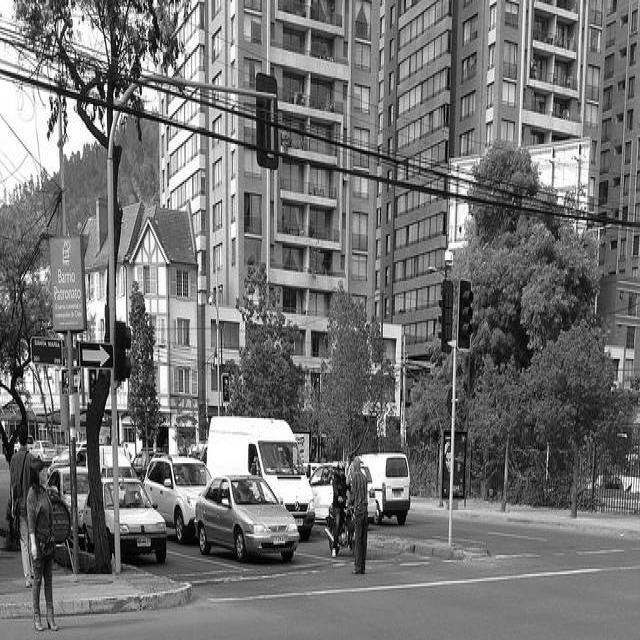vehicle: (209, 410, 313, 528), (196, 477, 299, 568), (81, 480, 167, 572), (144, 451, 210, 535), (307, 465, 377, 525), (361, 453, 411, 525), (45, 465, 89, 539), (324, 498, 356, 552), (29, 439, 57, 463), (14, 436, 34, 454), (75, 442, 87, 462)
